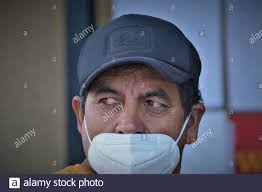mask_weared_incorrect: (69, 71, 202, 174)
